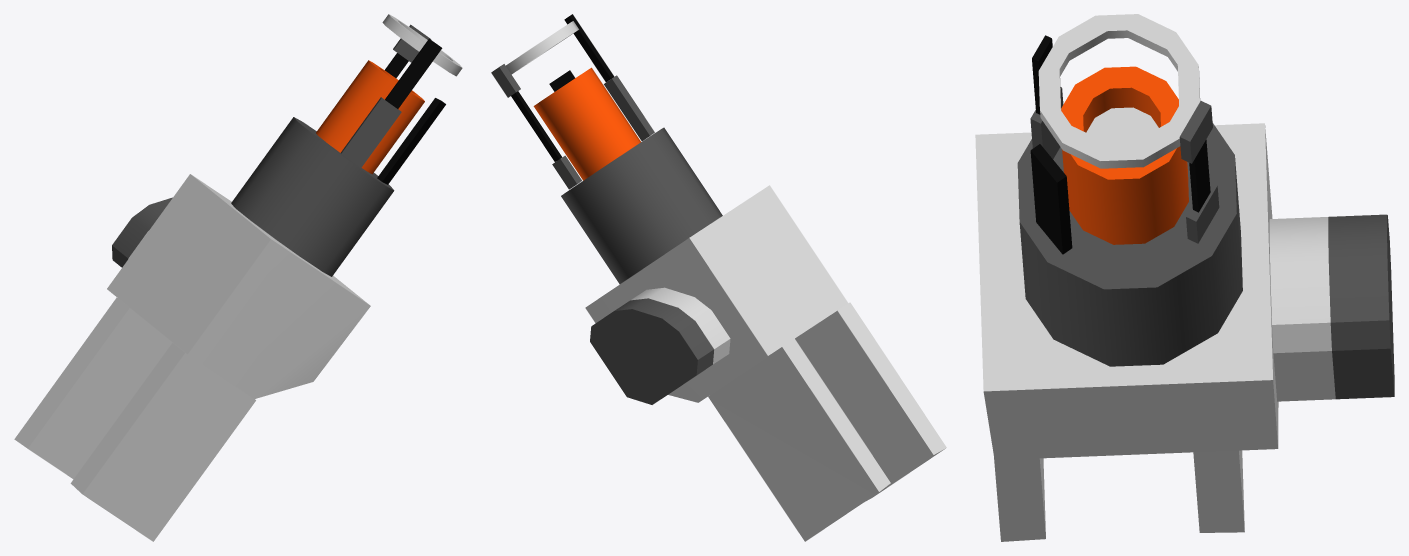
File: Pinza_brazo.obj
3 views of the same model, side by side, from view 1: azimuth 30°, elevation 25°; view 2: azimuth 150°, elevation 25°; view 3: azimuth 270°, elevation 25° (orthographic). The views are drawn at different scales.
Visible parts, largest first — view 1: Pinza_del_brazo_SpacialRoverExploreralumWhite, Pinza_del_brazo_SpacialRoverExploreralumGray, Pinza_del_brazo_SpacialRoverExploreralumOrange, Pinza_del_brazo_SpacialRoverExploreralumBlack; view 2: Pinza_del_brazo_SpacialRoverExploreralumWhite, Pinza_del_brazo_SpacialRoverExploreralumGray, Pinza_del_brazo_SpacialRoverExploreralumOrange, Pinza_del_brazo_SpacialRoverExploreralumBlack; view 3: Pinza_del_brazo_SpacialRoverExploreralumWhite, Pinza_del_brazo_SpacialRoverExploreralumGray, Pinza_del_brazo_SpacialRoverExploreralumOrange, Pinza_del_brazo_SpacialRoverExploreralumBlack.
Part boxes in pixels (x1,y1,x2,y2): Pinza_del_brazo_SpacialRoverExploreralumWhite: (14,14,462,541); Pinza_del_brazo_SpacialRoverExploreralumGray: (112,24,431,276); Pinza_del_brazo_SpacialRoverExploreralumOrange: (316,60,424,174); Pinza_del_brazo_SpacialRoverExploreralumBlack: (377,38,445,184); Pinza_del_brazo_SpacialRoverExploreralumWhite: (506,21,946,541); Pinza_del_brazo_SpacialRoverExploreralumGray: (491,64,722,404); Pinza_del_brazo_SpacialRoverExploreralumOrange: (533,67,640,180); Pinza_del_brazo_SpacialRoverExploreralumBlack: (511,14,614,161); Pinza_del_brazo_SpacialRoverExploreralumWhite: (975,14,1335,541); Pinza_del_brazo_SpacialRoverExploreralumGray: (1017,87,1394,399); Pinza_del_brazo_SpacialRoverExploreralumOrange: (1061,66,1188,244); Pinza_del_brazo_SpacialRoverExploreralumBlack: (1030,35,1210,254).
Size of the model in its own units: 1.13 by 1.14 by 0.5634.
